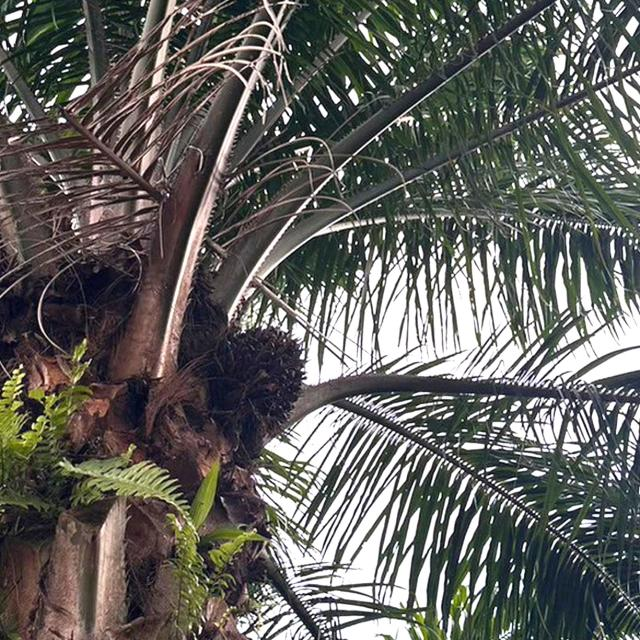ripe: (202, 318, 308, 432)
